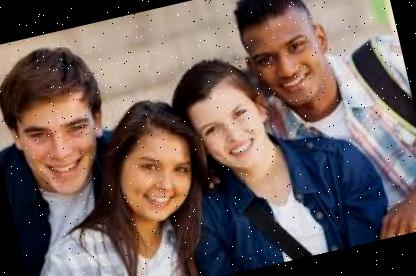person: (164, 15, 399, 276), (225, 0, 416, 249), (0, 28, 152, 276), (46, 82, 233, 276)
